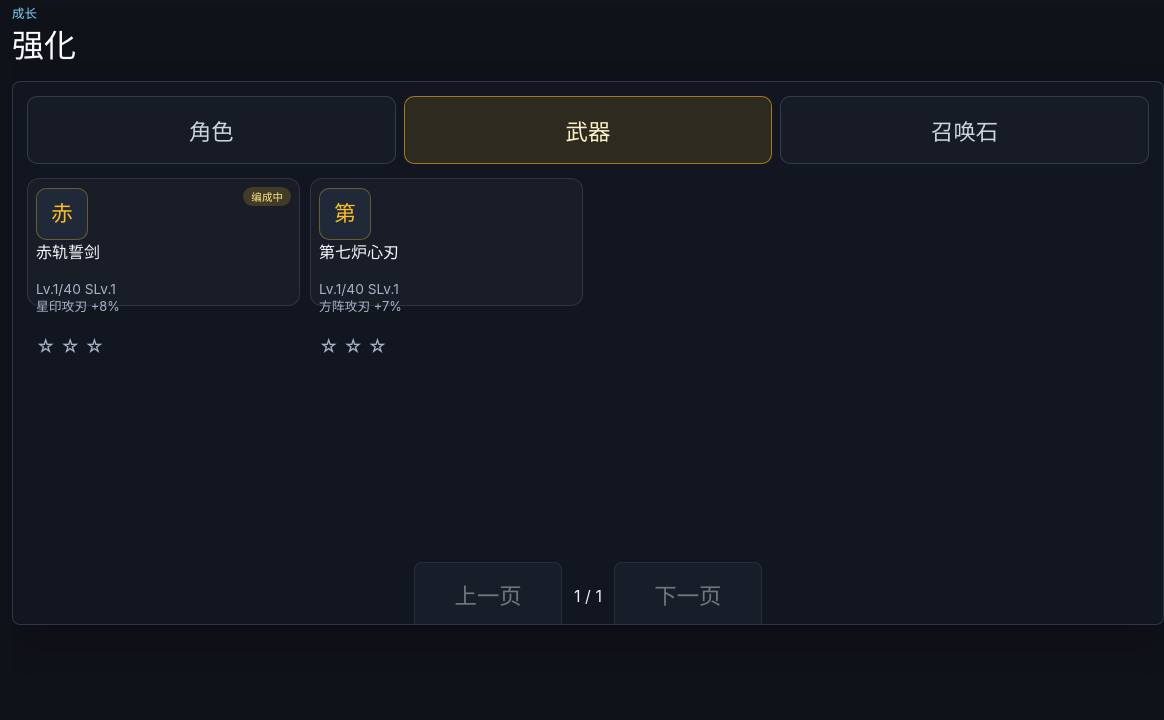
Scenario: upgrade screen › syncs summon stars with the same filled and hollow rendering
Click the tab with test id "summon-tab". click: click(965, 130)
box: [780, 96, 1149, 164]
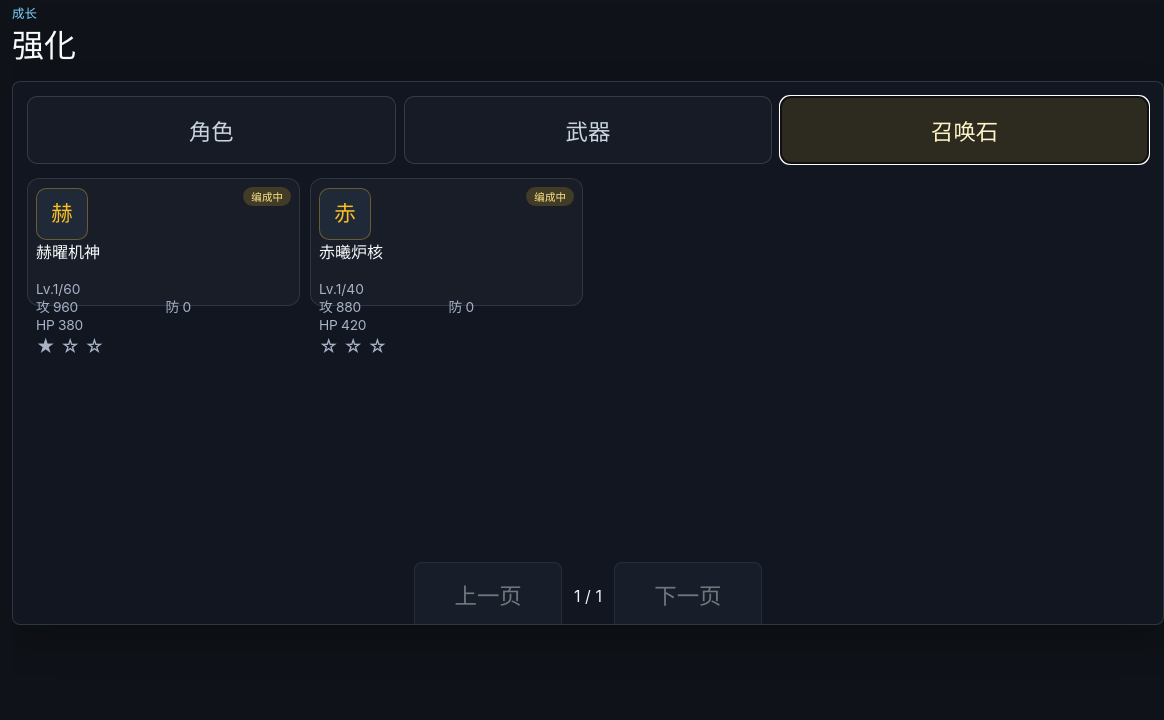
Expected: the element named "突破 1" shows "☆", [60, 335, 80, 357]
Expected: the element named "突破 1" shows "★", [36, 335, 55, 357]
